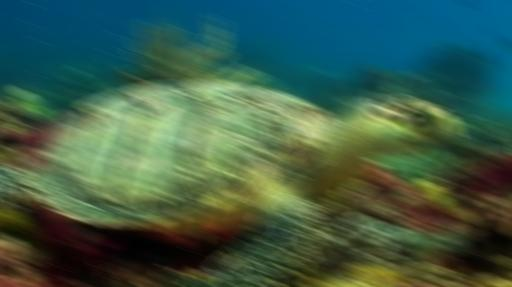Fish: (0, 83, 457, 286)
